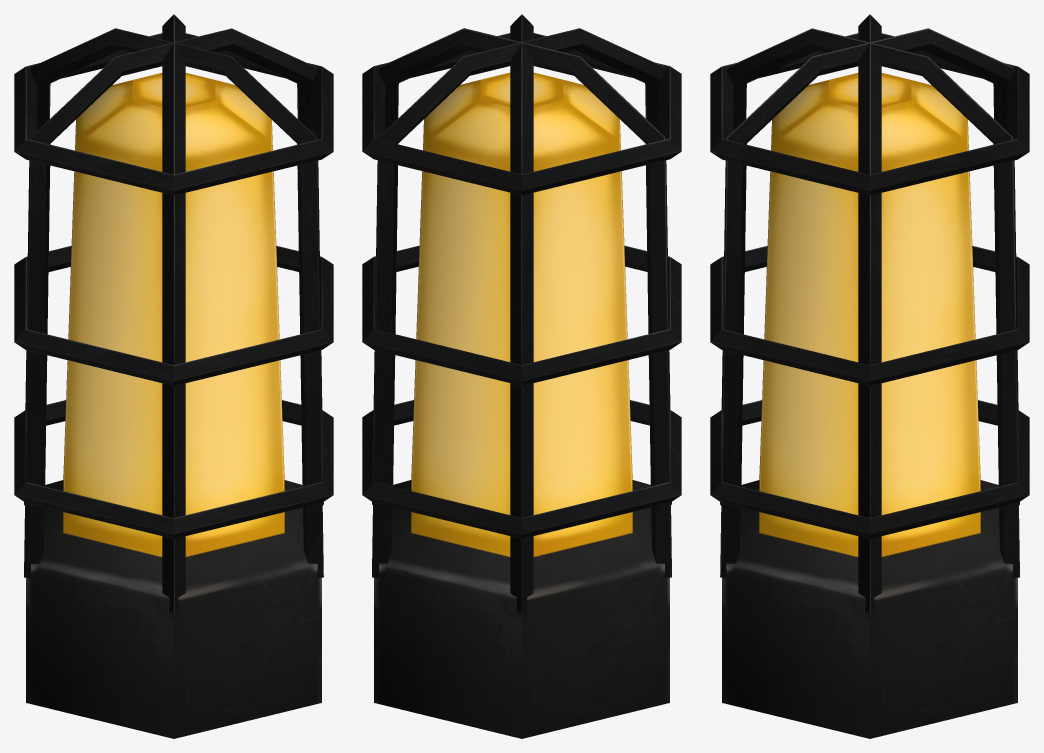
The model's file is sewer_light001.FBX.
3 views of the same model, side by side, from view 1: azimuth 30°, elevation 25°; view 2: azimuth 150°, elevation 25°; view 3: azimuth 270°, elevation 25° (orthographic).
Visible parts, largest first — view 1: sewer_light001; view 2: sewer_light001; view 3: sewer_light001.
Boxes of the visible parts, x1,y1,x2,y2 form: sewer_light001: (14, 14, 333, 738); sewer_light001: (362, 14, 681, 738); sewer_light001: (710, 14, 1029, 738).
Size of the model in its own units: 90.43 by 169 by 78.32.
